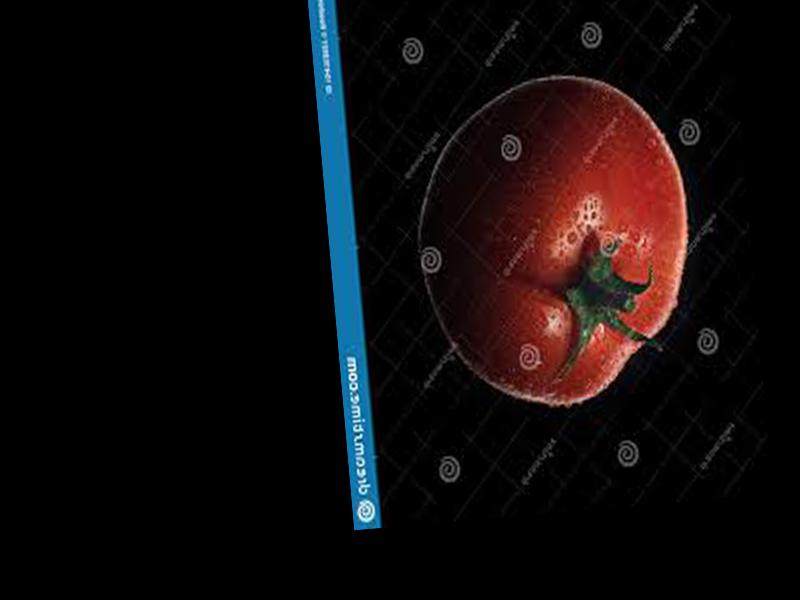Tomato: (407, 63, 703, 417)
